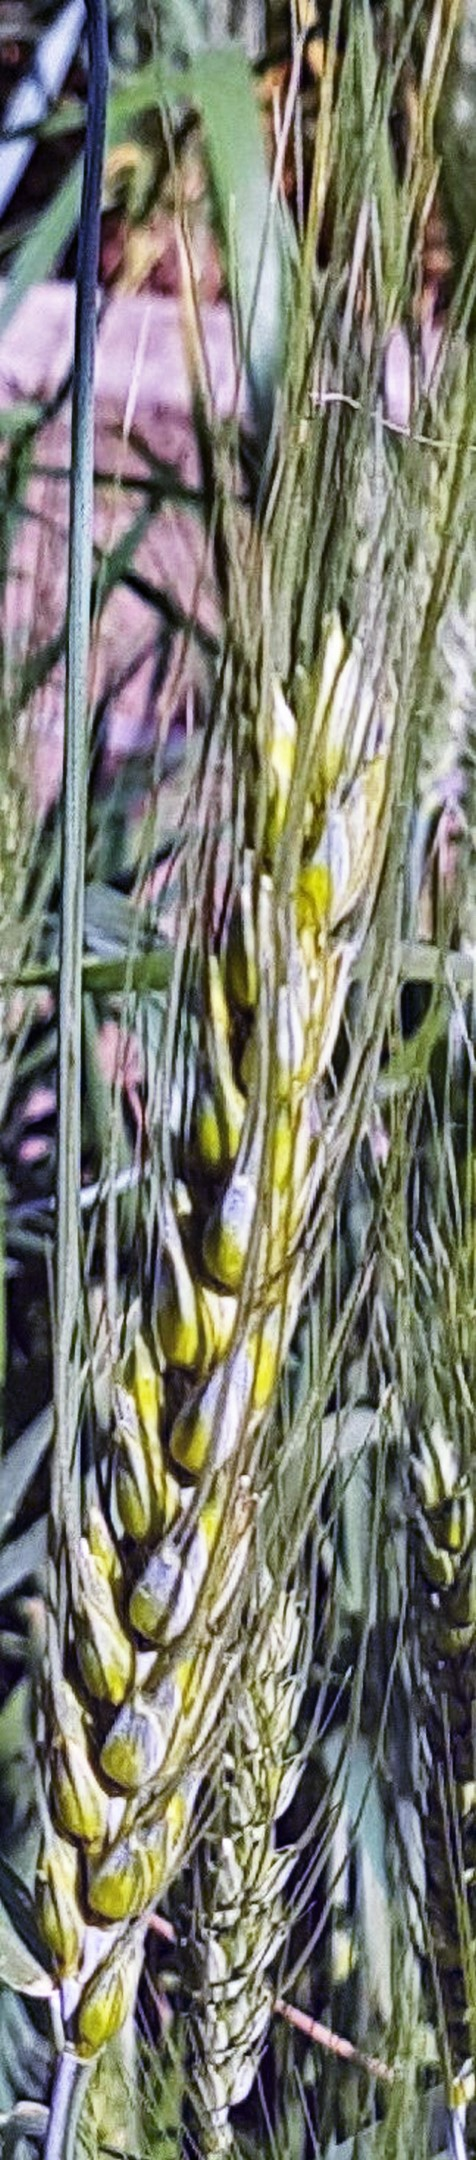Healthy Wheat: (37, 596, 428, 1959)
